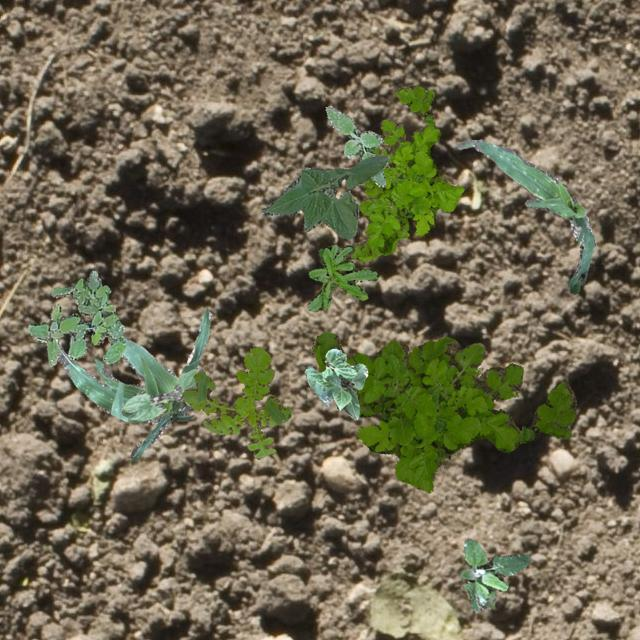crop: (53, 306, 211, 462), (456, 138, 594, 292), (262, 154, 388, 238), (120, 367, 200, 422), (304, 348, 366, 418)
weed: (312, 330, 576, 492), (350, 84, 462, 260), (182, 346, 290, 458), (27, 270, 124, 366), (458, 538, 530, 612), (324, 105, 384, 186), (306, 243, 378, 310)
